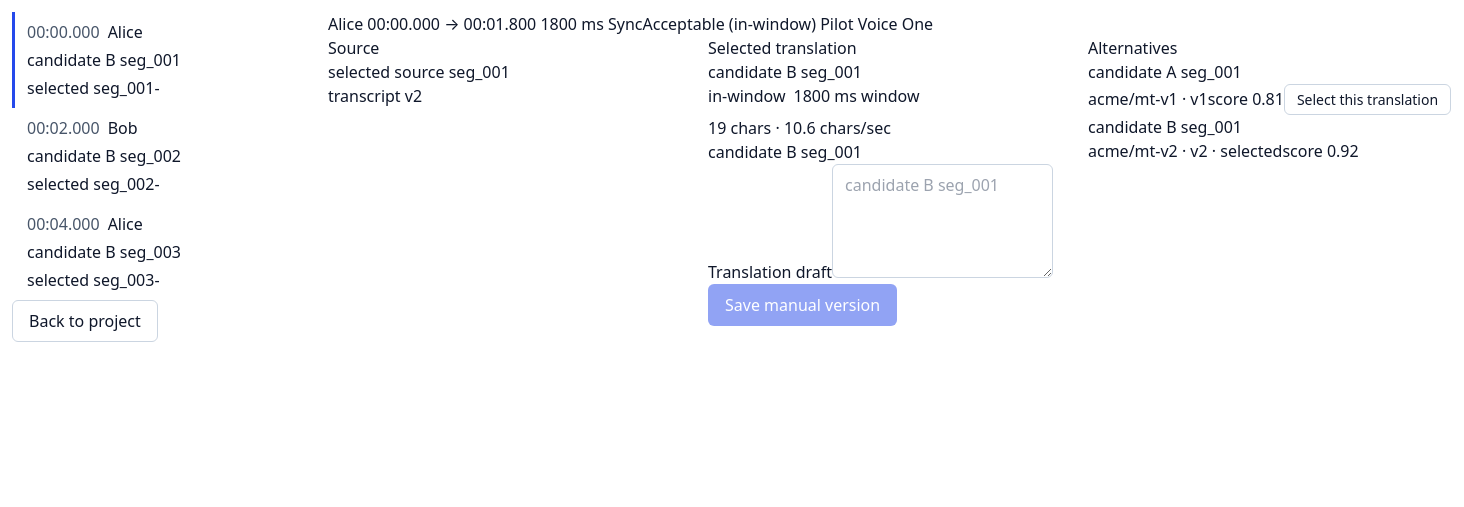
Test: manual save matrix › keeps drafts on version conflicts with a stale banner (recovery: refresh)
The image size is (1464, 507).
expect the option with test id "translation-row-seg_001" is shown: met, box 12,12 -> 312,108
Type "fixed text" into the text box with test id "translation-draft".
click(942, 221); type("fixed text")  # box 832,164 -> 1053,278
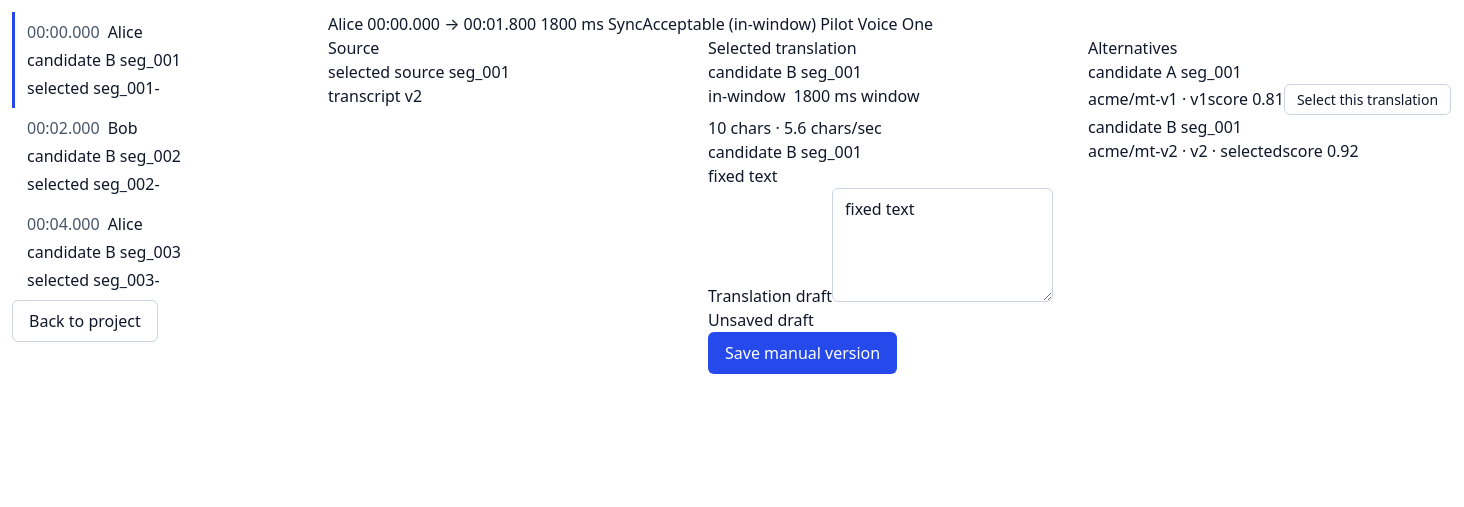
Click the button with test id "translation-draft-save".
click(803, 353)  # box 708,332 -> 897,374
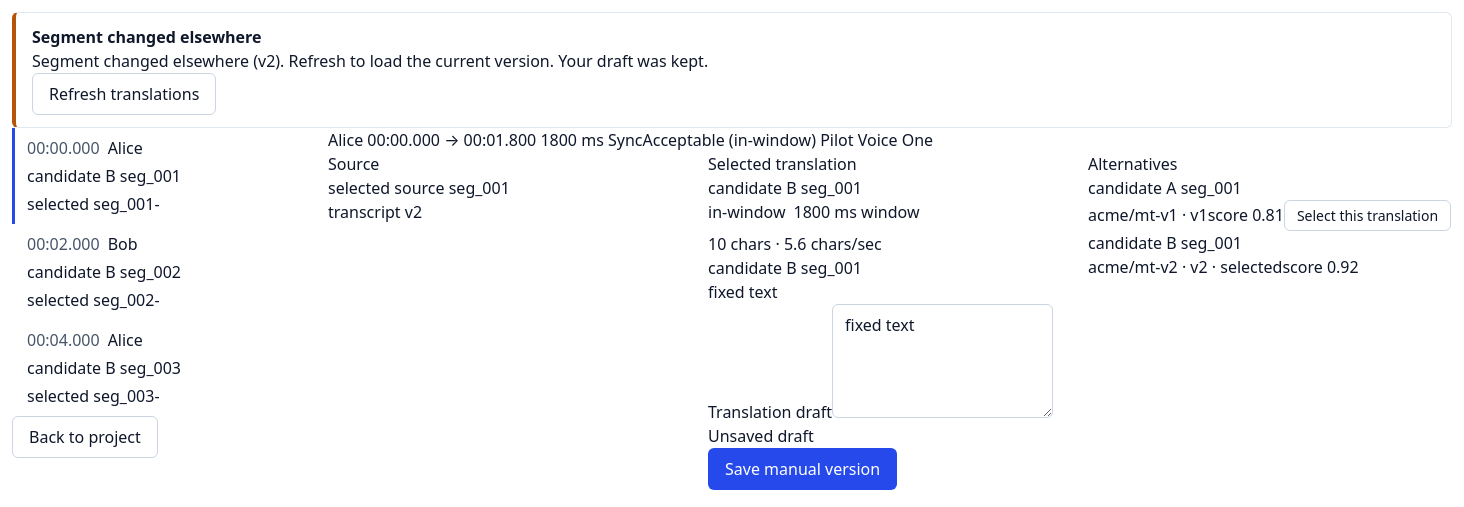
expect the element with test id "translation-stale-banner" is shown: met, box 12,12 -> 1452,128
Click the button with test id "translation-stale-refresh".
click(124, 94)  # box 32,73 -> 216,115
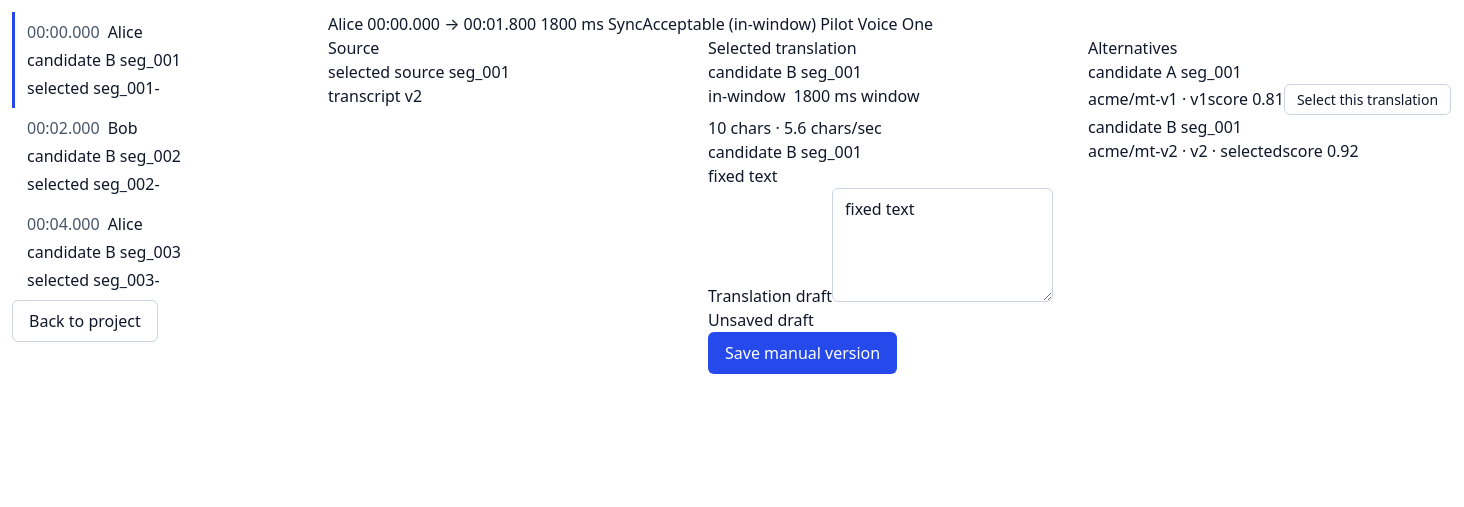
expect the element with test id "translation-stale-banner" is gone: met
